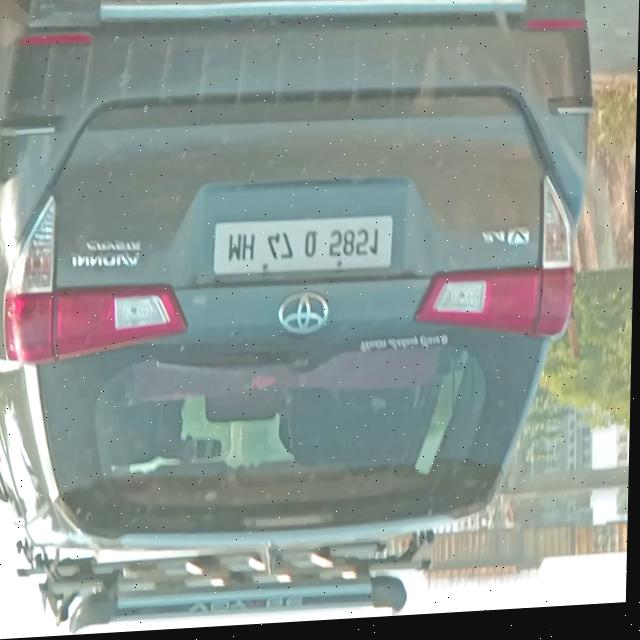plate: (213, 217, 395, 283)
